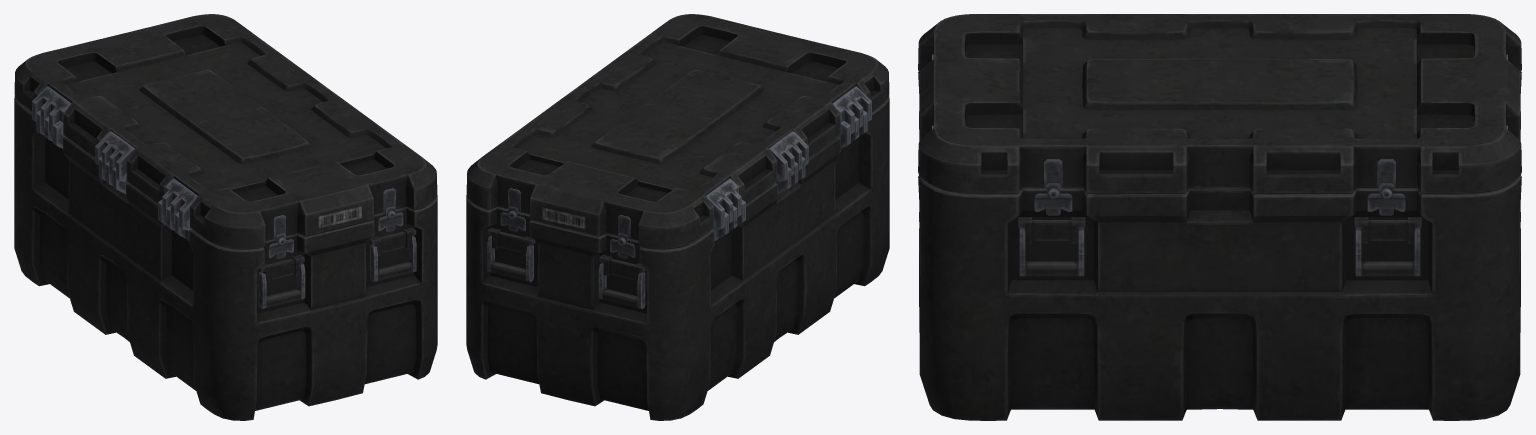
File: case_big_lite.glb
The picture shows the model from 3 angles, left to right: view 1: azimuth 30°, elevation 25°; view 2: azimuth 150°, elevation 25°; view 3: azimuth 270°, elevation 25°; orthographic projection. The views are drawn at different scales.
Parts seen in each view (by area): view 1: body, lid; view 2: body, lid; view 3: body, lid.
Boxes of the visible parts, x1,y1,x2,y2 form: body: [14, 96, 437, 420]; lid: [14, 14, 437, 249]; body: [466, 96, 889, 420]; lid: [466, 14, 889, 249]; body: [918, 72, 1521, 420]; lid: [918, 14, 1521, 193].
Size of the model in its own units: 0.7066 by 0.6011 by 1.21.
1 material, 1 textured.
